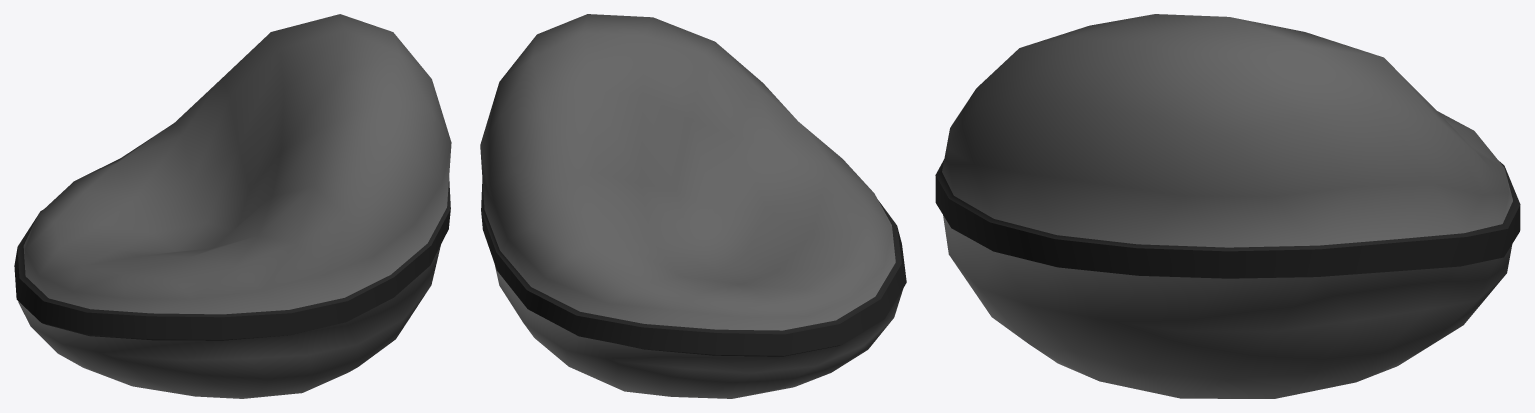
Rendered from Beanbag05.fbx.
3 views of the same model, side by side, from view 1: azimuth 30°, elevation 25°; view 2: azimuth 150°, elevation 25°; view 3: azimuth 270°, elevation 25° (orthographic). The views are drawn at different scales.
Parts seen in each view (by area): view 1: Beanbag05; view 2: Beanbag05; view 3: Beanbag05.
Boxes of the visible parts, x1=… form: Beanbag05: x1=14, y1=14, x2=451, y2=398; Beanbag05: x1=480, y1=14, x2=906, y2=398; Beanbag05: x1=935, y1=14, x2=1520, y2=398.
Bounding box in the file's own units: 0.4009 × 0.3852 × 0.2993.
